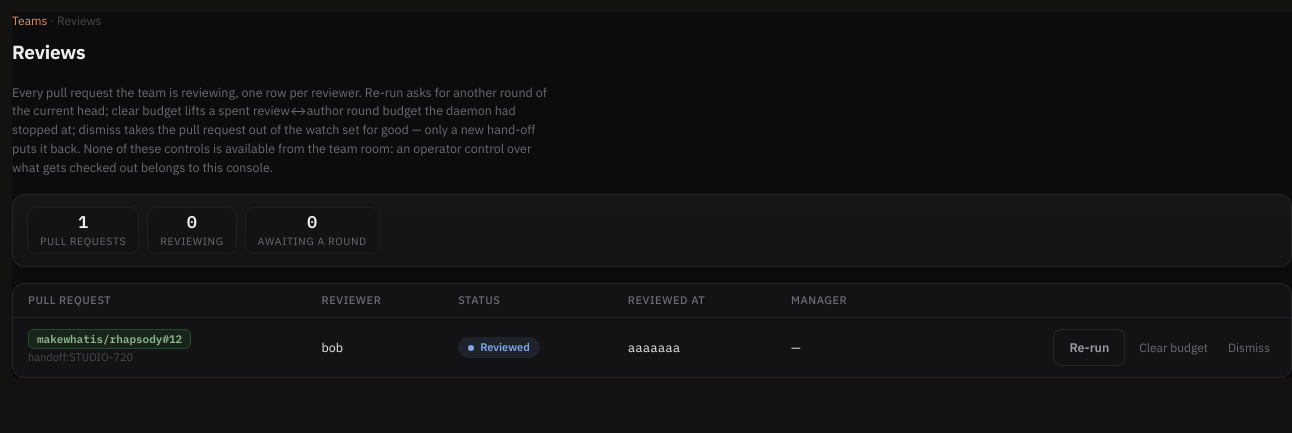
the Reviews surface › reports the daemon's own refusal when a control is rejected
Click the button with aria-label "Re-run the review of makewhatis/rhapsody#12" at (1089, 347), box [1053, 329, 1125, 366]
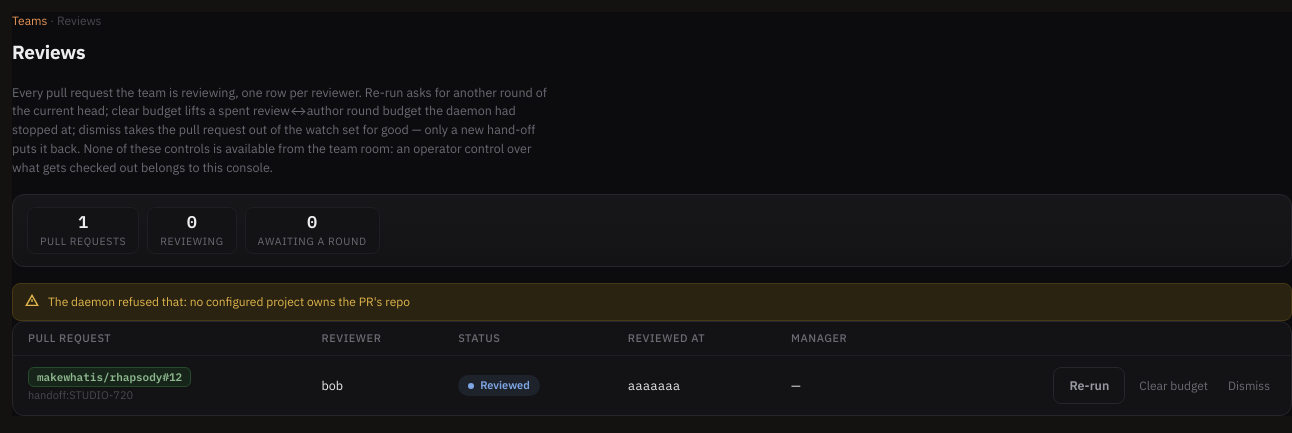
Expected: the message shows "no configured project owns the PR's repo", [48, 294, 410, 309]
